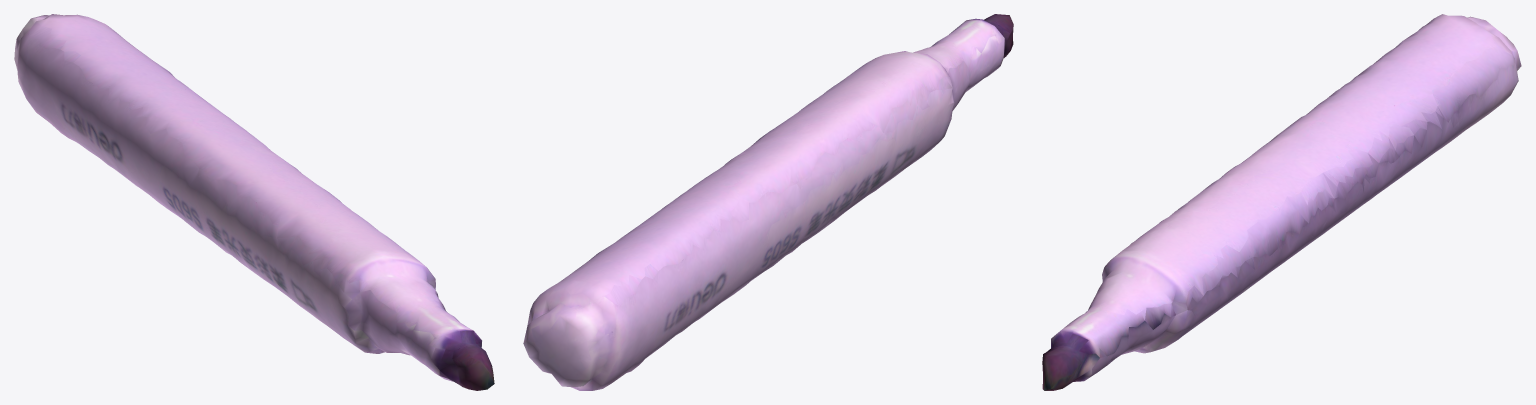
File: scan_align.obj
The picture shows the model from 3 angles, left to right: view 1: azimuth 30°, elevation 25°; view 2: azimuth 150°, elevation 25°; view 3: azimuth 330°, elevation 25°; orthographic projection. The views are drawn at different scales.
Size of the model in its own units: 0.0154 by 0.0158 by 0.1251.
1 material, 1 textured.
